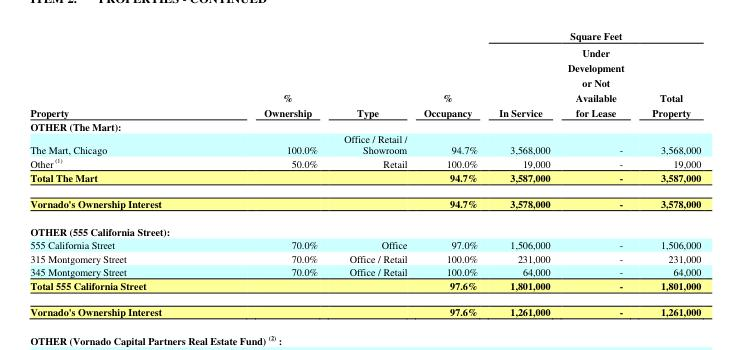table: (29, 28, 700, 318)
table column: (29, 28, 212, 318), (212, 28, 330, 318), (330, 28, 414, 318), (558, 28, 637, 318), (414, 28, 487, 318), (487, 28, 558, 318), (637, 28, 700, 318)
table column header: (29, 28, 700, 119)
table projected row header: (29, 217, 700, 238), (29, 119, 700, 132)
table row: (29, 43, 700, 119), (29, 190, 700, 217), (29, 132, 700, 155), (29, 169, 700, 190), (29, 217, 700, 238), (29, 278, 700, 298), (29, 298, 700, 318), (29, 28, 700, 43), (29, 155, 700, 169), (29, 264, 700, 278), (29, 119, 700, 132), (29, 238, 700, 251), (29, 251, 700, 264)
table spanning cell: (29, 28, 212, 119), (212, 28, 330, 119), (330, 28, 414, 119), (414, 28, 487, 119), (487, 28, 700, 43)
